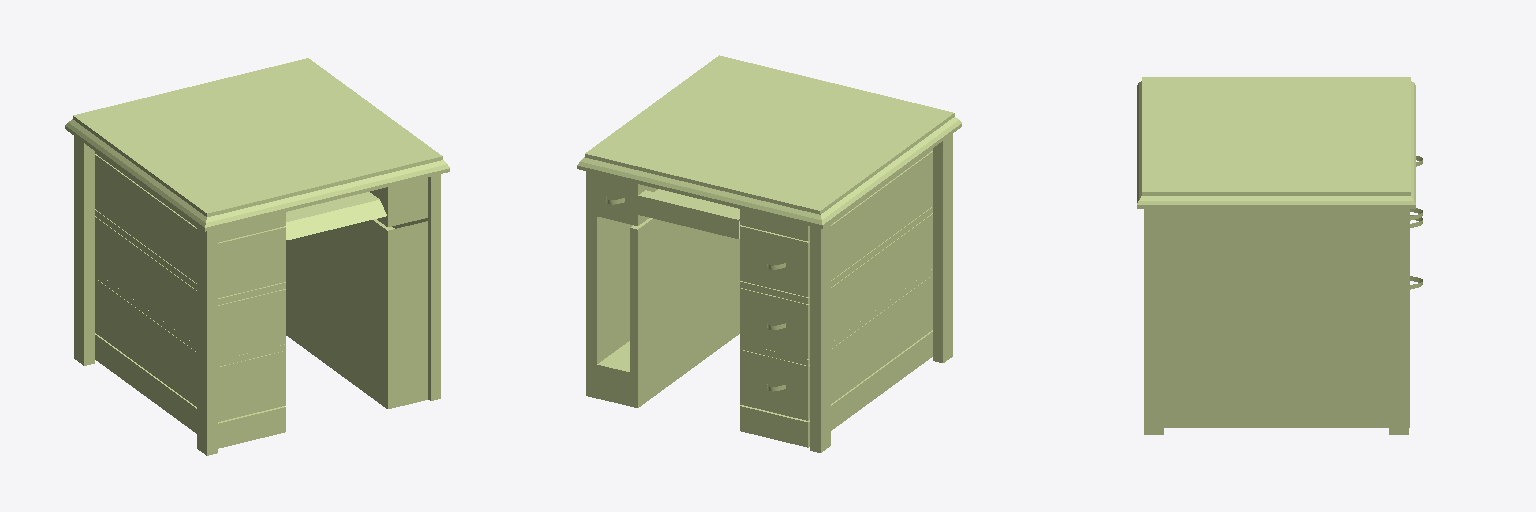
Rendered from table.obj.
3 renders of one model, left to right at view 1: azimuth 30°, elevation 25°; view 2: azimuth 150°, elevation 25°; view 3: azimuth 270°, elevation 25°, orthographic.
Parts seen in each view (by area): view 1: Cube.001, Cube_11, Cube_1, Cube_2, Cube_3, Stand_1, Stand_2, Cube_5, Cube_9, Cube_10, Cube_4, Cube_7 (+1 smaller); view 2: Cube.001, Cube_11, Cube_1, Cube_2, Cube_3, Stand_2, Cube_5, Stand_1, Cube_9, Cube_10, Cube_4, Cube_7 (+1 smaller); view 3: Cube_11, Cube.001, Cube_10, Stand_1, Stand_2.
Part boxes in pixels (bbox=[...]): Cube.001: bbox=[65, 58, 449, 231]; Cube_11: bbox=[286, 219, 427, 408]; Cube_1: bbox=[95, 154, 285, 297]; Cube_2: bbox=[95, 216, 285, 360]; Cube_3: bbox=[95, 278, 285, 421]; Stand_1: bbox=[197, 174, 440, 455]; Stand_2: bbox=[74, 136, 94, 365]; Cube_5: bbox=[95, 333, 285, 448]; Cube_9: bbox=[285, 192, 386, 239]; Cube_10: bbox=[370, 177, 427, 226]; Cube_4: bbox=[95, 151, 285, 242]; Cube_7: bbox=[95, 209, 285, 304]; Cube.001: bbox=[577, 55, 961, 228]; Cube_11: bbox=[597, 217, 739, 407]; Cube_1: bbox=[740, 151, 932, 296]; Cube_2: bbox=[740, 213, 932, 358]; Cube_3: bbox=[740, 275, 932, 420]; Stand_2: bbox=[586, 171, 830, 452]; Cube_5: bbox=[740, 330, 932, 447]; Stand_1: bbox=[933, 134, 952, 362]; Cube_9: bbox=[638, 189, 739, 238]; Cube_10: bbox=[597, 174, 657, 225]; Cube_4: bbox=[740, 149, 932, 241]; Cube_7: bbox=[740, 207, 932, 303]; Cube_11: bbox=[1164, 246, 1409, 427]; Cube.001: bbox=[1137, 77, 1415, 208]; Cube_10: bbox=[1164, 209, 1409, 245]; Stand_1: bbox=[1144, 209, 1163, 434]; Stand_2: bbox=[1389, 209, 1408, 434].
Size of the model in its own units: 1.04 by 0.9817 by 1.05.